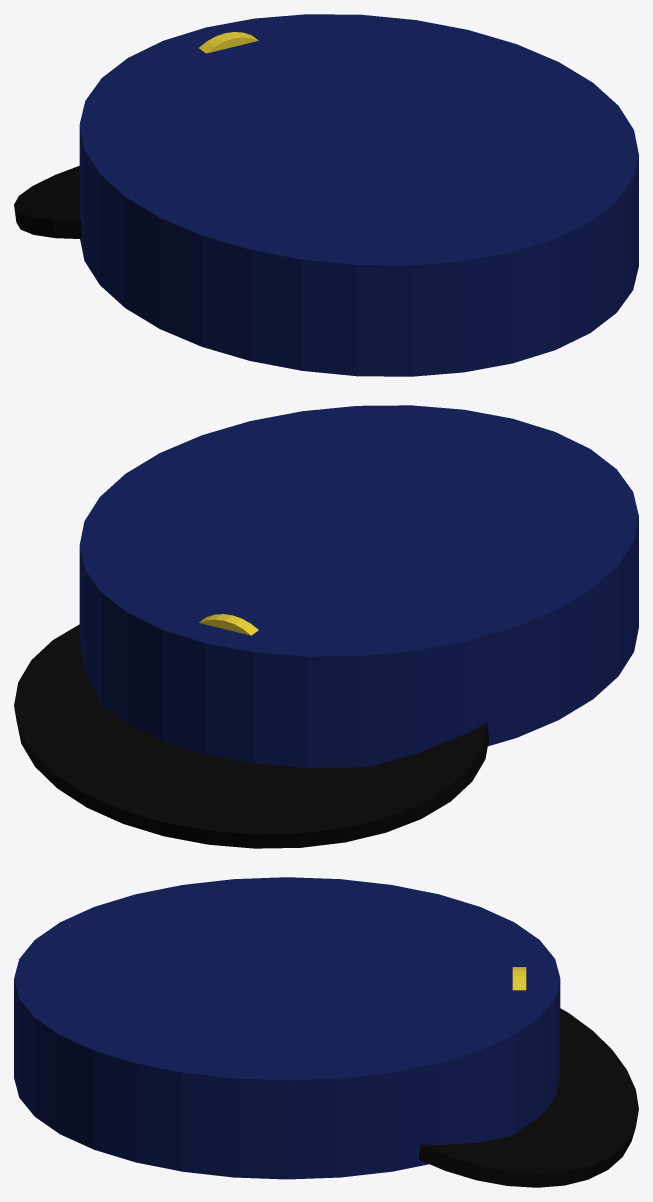
Rendered from czapka_policyjna.obj.
3 views of the same model, one above another, from view 1: azimuth 30°, elevation 25°; view 2: azimuth 150°, elevation 25°; view 3: azimuth 270°, elevation 25° (orthographic). The views are drawn at different scales.
Parts seen in each view (by area): view 1: CzapkaPolicyjna; view 2: CzapkaPolicyjna; view 3: CzapkaPolicyjna.
Part boxes in pixels (x1=…): CzapkaPolicyjna: x1=14, y1=14, x2=638, y2=376; CzapkaPolicyjna: x1=14, y1=405, x2=638, y2=848; CzapkaPolicyjna: x1=14, y1=877, x2=638, y2=1187.
Bounding box in the file's own units: 1.76 × 0.6143 × 2.29.
